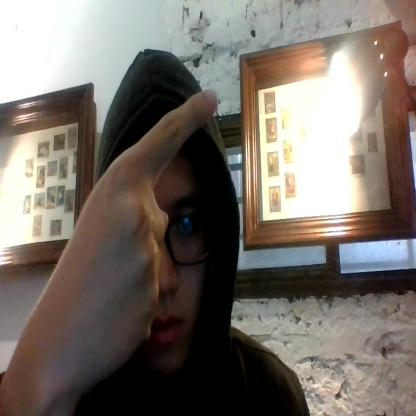left: (25, 87, 219, 370)
